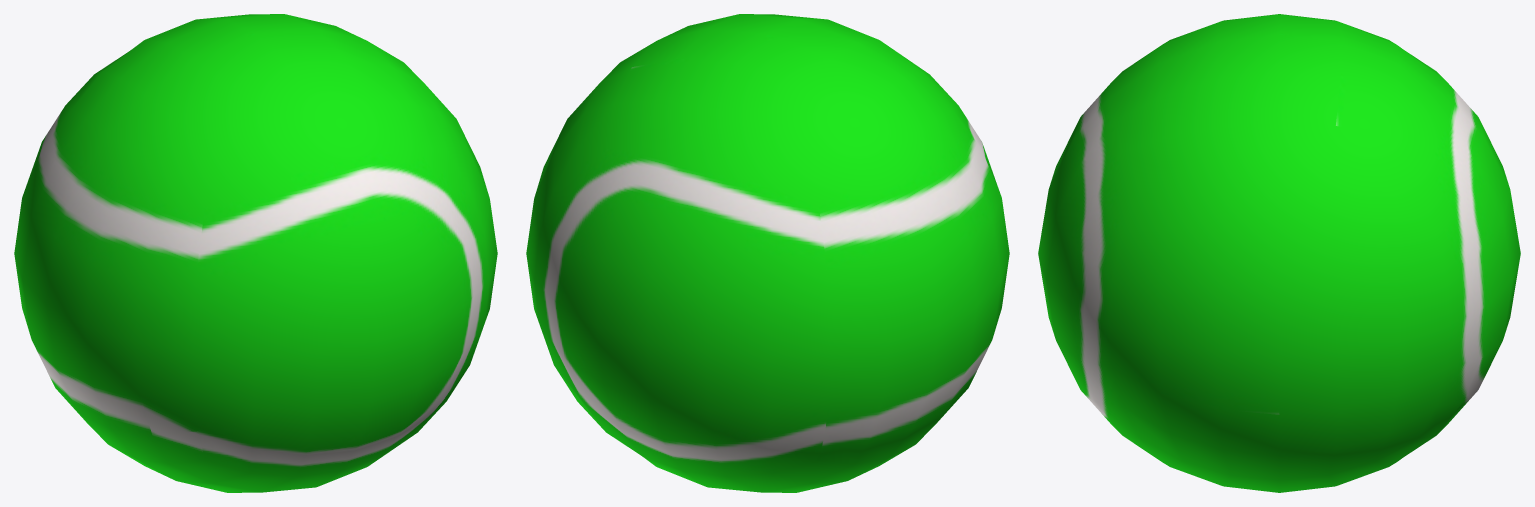
The model's file is Ball.fbx.
3 renders of one model, left to right at view 1: azimuth 30°, elevation 25°; view 2: azimuth 150°, elevation 25°; view 3: azimuth 270°, elevation 25°, orthographic.
Visible parts, largest first — view 1: Ball; view 2: Ball; view 3: Ball.
Part boxes in pixels (x1=…): Ball: x1=14, y1=14, x2=497, y2=492; Ball: x1=526, y1=14, x2=1009, y2=492; Ball: x1=1038, y1=14, x2=1520, y2=492.
Size of the model in its own units: 41.51 by 41.51 by 41.51.
Materials: 1 (1 with a texture image).
